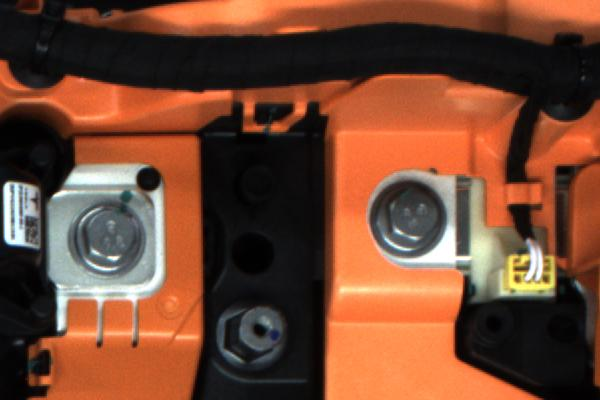nut_b: (364, 174, 452, 263), (56, 200, 153, 279)
